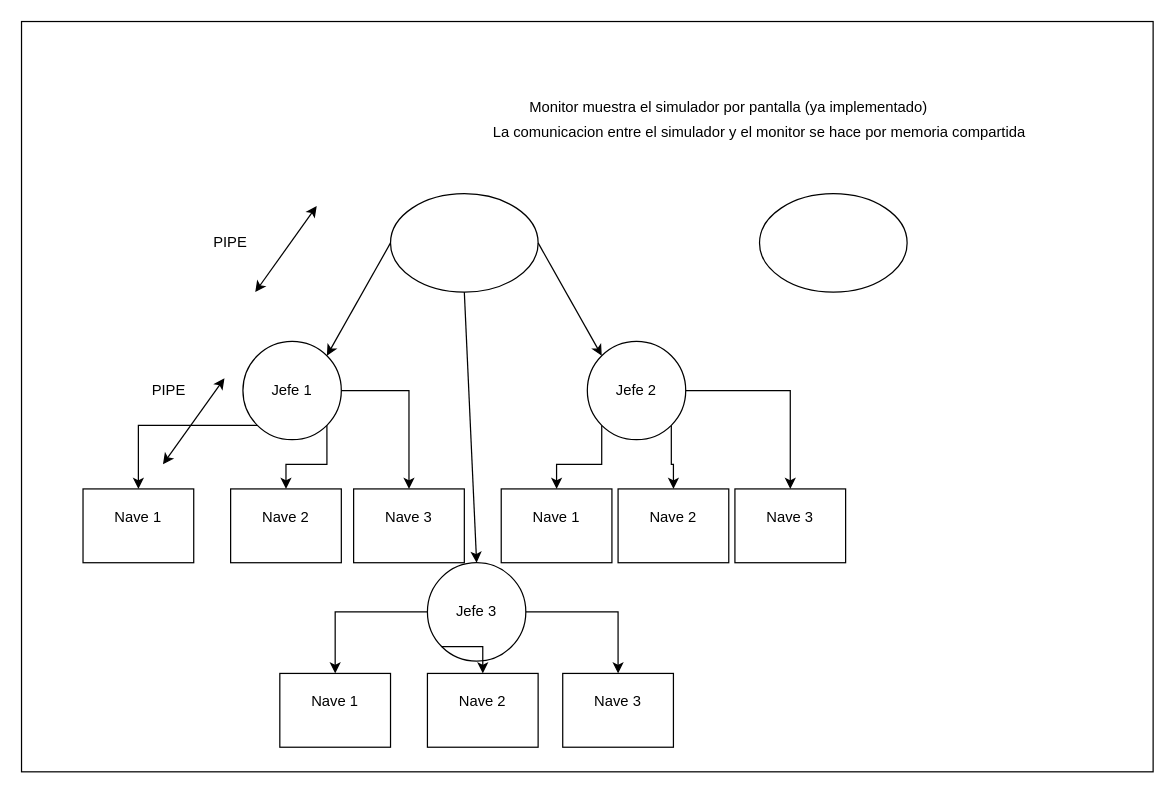
Some shapes in this 1175 by 793 pixel diagram are drawn without their labels. The centre of each missing label's shape, as x and y in pixels:
Monitor: pixel 832 242
Simulador: pixel 463 242
